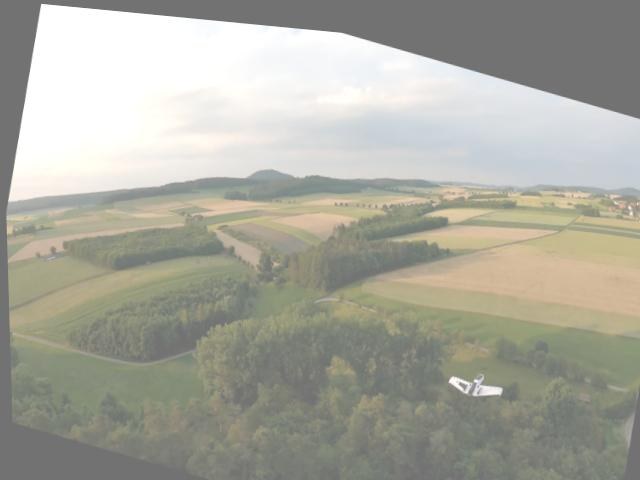plane: (442, 350, 505, 401)
